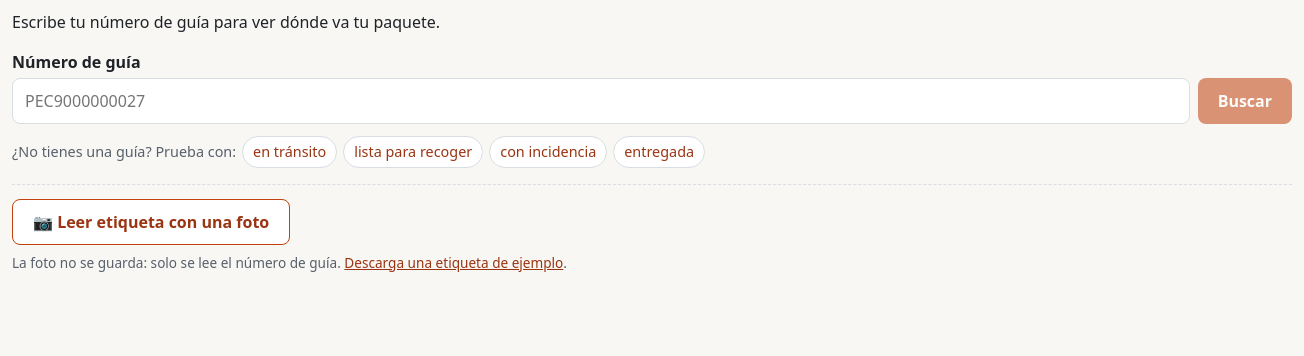
Test case: Rastreo › si la guía no existe, muestra el mensaje del backend
Type "PEC0000000018" into the field labelled "Número de guía" at (601,101), box [12,78,1190,124]
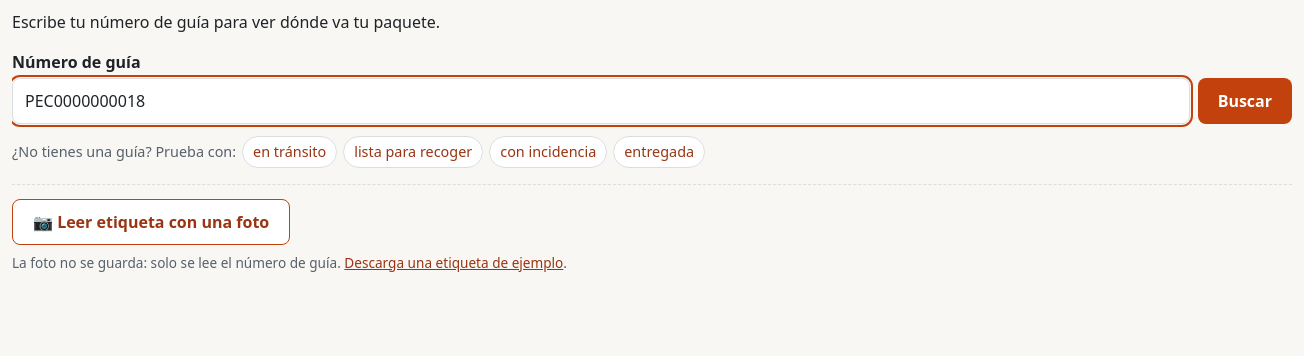
Click the button "Buscar" at (1245,101), box [1198,78,1292,124]
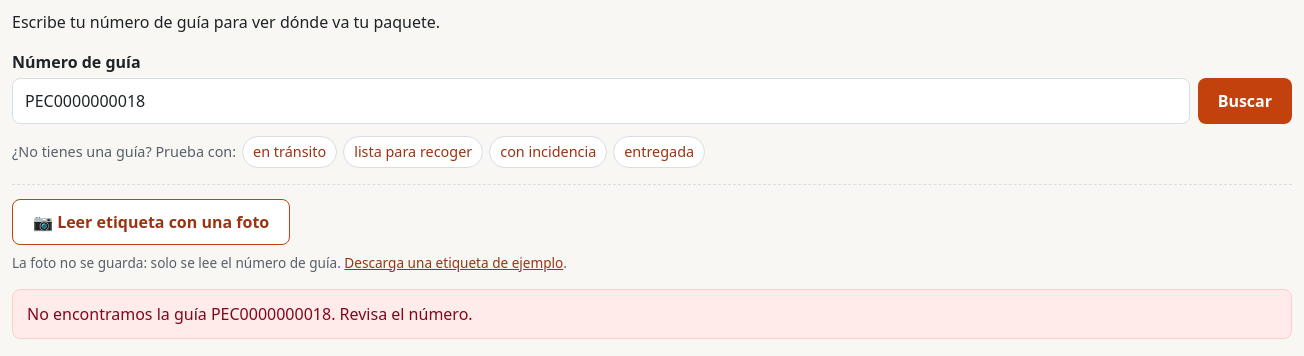
Expected: the message shows "No encontramos la guía PEC0000000018", [27,303,473,325]
